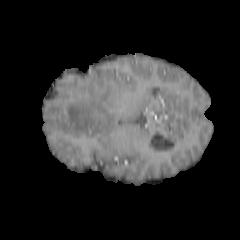glioma: (45, 73, 115, 131)
